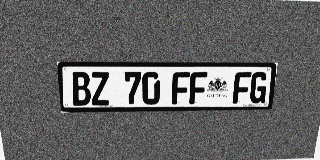0: (142, 72, 160, 105)
7: (123, 72, 142, 105)
B: (71, 72, 91, 106)
F: (232, 72, 252, 104), (189, 72, 208, 104), (172, 72, 190, 104)
G: (249, 72, 268, 103)
Z: (90, 72, 110, 105)
